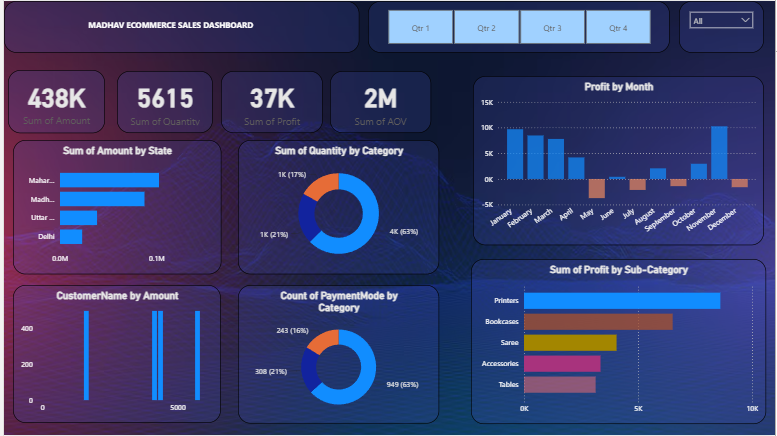

Layout of this report page (visuals, bound fields, positions):
{"tool":"powerbi","page":{"name":"Page 1","canvas":[1280,720],"ordinal":0},"visuals":[{"type":"textbox","box":[0,0,590.4,86.4],"z":0},{"type":"columnChart","title":" Profit by Month","fields":{"Category":["Orders.Order Date.Variation.Date Hierarchy.Month"],"Y":["Sum(details.Profit)"]},"box":[778.6,124.5,483.1,280.6],"z":1000},{"type":"barChart","fields":{"Category":["details.Sub-Category"],"Y":["Sum(details.Profit)"]},"box":[775.3,428.3,489.8,273.9],"z":2000},{"type":"donutChart","fields":{"Y":["Sum(details.Quantity)"],"Category":["details.Category"]},"box":[388.8,230.4,334.1,223.2],"z":3000},{"type":"donutChart","fields":{"Category":["details.Category"],"Y":["CountNonNull(details.PaymentMode)"]},"box":[388.8,470.9,334.1,230.4],"z":4000},{"type":"card","fields":{"Values":["Sum(details.AOV)"]},"box":[541.2,116.2,167.7,102.9],"z":5000},{"type":"card","fields":{"Values":["Sum(details.Amount)"]},"box":[6.6,114.6,161,104.6],"z":6000},{"type":"card","fields":{"Values":["Sum(details.Profit)"]},"box":[360.3,116.2,169.3,102.9],"z":7000},{"type":"card","fields":{"Values":["Sum(details.Quantity)"]},"box":[187.6,116.2,159.4,102.9],"z":8000},{"type":"barChart","fields":{"Category":["Orders.State"],"Y":["Sum(details.Amount)"]},"box":[14.4,230.4,345.6,223.2],"z":9000},{"type":"columnChart","fields":{"Category":["details.Amount"],"Y":["CountNonNull(Orders.CustomerName)"]},"box":[14.9,471.5,345.3,229.1],"z":10000},{"type":"slicer","fields":{"Values":["Orders.Order Date.Variation.Date Hierarchy.Quarter"]},"box":[604.3,0,501.4,86.3],"z":11000},{"type":"slicer","fields":{"Values":["Orders.State"]},"box":[1120.6,0,141.1,86.3],"z":12000}]}

Visuals, with their boxes in screenshot pixels (x1, y1, x2, y2), scaled from the page's 1280x720 canvas onto the 777x436 screenshot:
textbox: x1=0 y1=0 x2=358 y2=52
" Profit by Month" columnChart: x1=473 y1=75 x2=766 y2=245
barChart - details.Sub-Category x Sum(details.Profit): x1=471 y1=259 x2=768 y2=425
donutChart - Sum(details.Quantity) x details.Category: x1=236 y1=140 x2=439 y2=275
donutChart - details.Category x CountNonNull(details.PaymentMode): x1=236 y1=285 x2=439 y2=425
card - Sum(details.AOV): x1=329 y1=70 x2=430 y2=133
card - Sum(details.Amount): x1=4 y1=69 x2=102 y2=133
card - Sum(details.Profit): x1=219 y1=70 x2=321 y2=133
card - Sum(details.Quantity): x1=114 y1=70 x2=211 y2=133
barChart - Orders.State x Sum(details.Amount): x1=9 y1=140 x2=219 y2=275
columnChart - details.Amount x CountNonNull(Orders.CustomerName): x1=9 y1=286 x2=219 y2=424
slicer - Orders.Order Date.Variation.Date Hierarchy.Quarter: x1=367 y1=0 x2=671 y2=52
slicer - Orders.State: x1=680 y1=0 x2=766 y2=52
